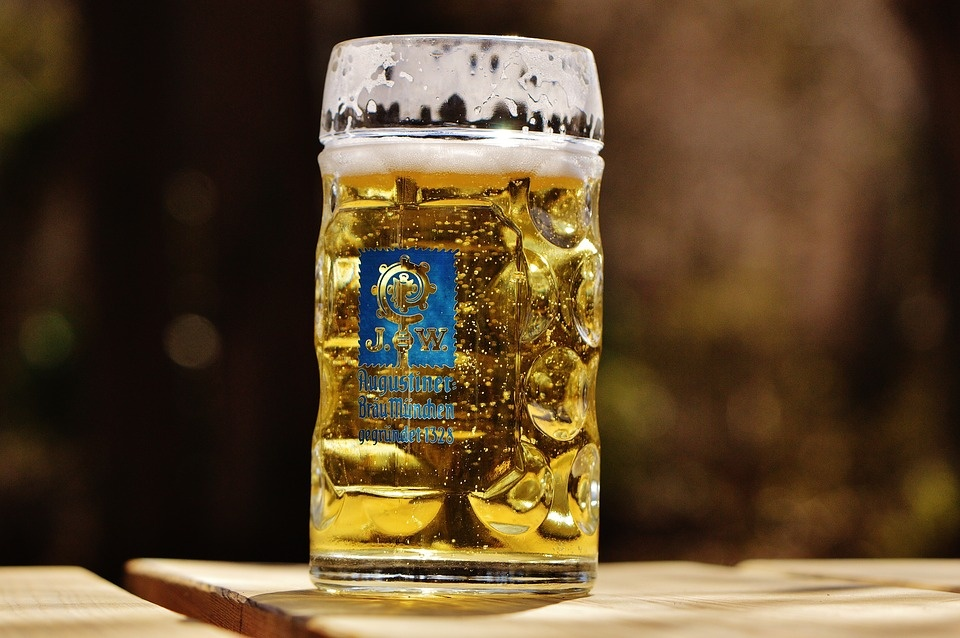glassBeer: (303, 35, 599, 596)
